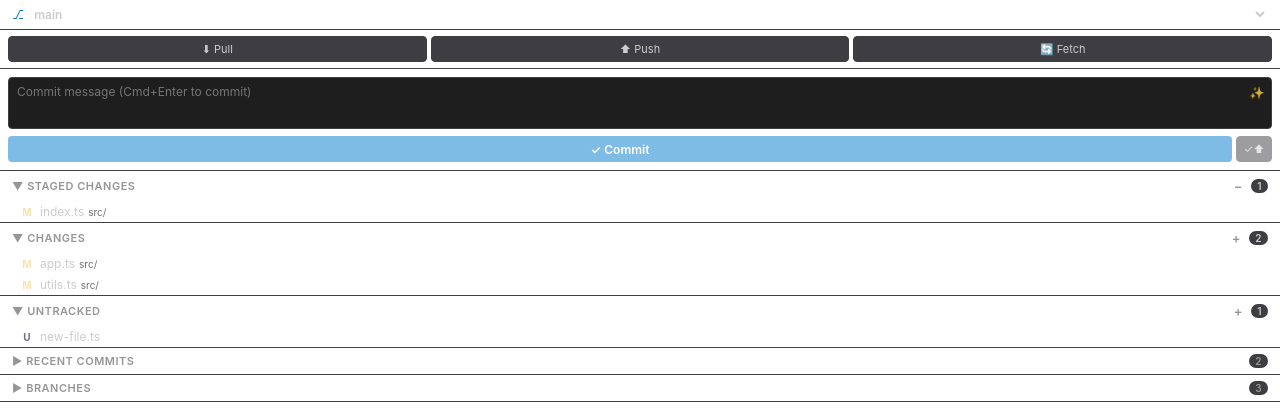
Test: GitPanelViewPresenter › enables Commit button when message entered
Step 1. Type "Fix bug" into the text box with placeholder "Commit message (Cmd+Enter to commit)" → coordinates (640, 103), box [8,77,1272,129]
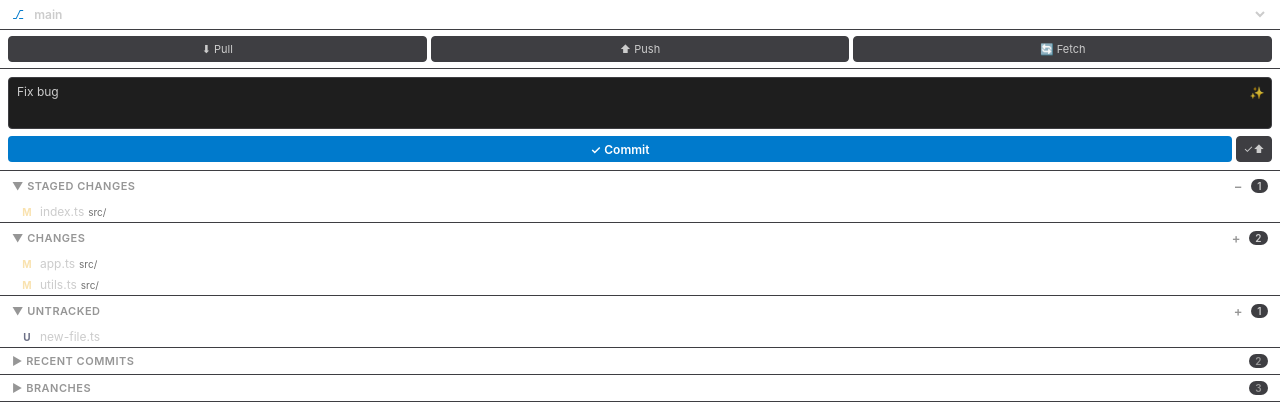
Expected: the button "✓ Commit" is enabled, [8,136,1232,162]
